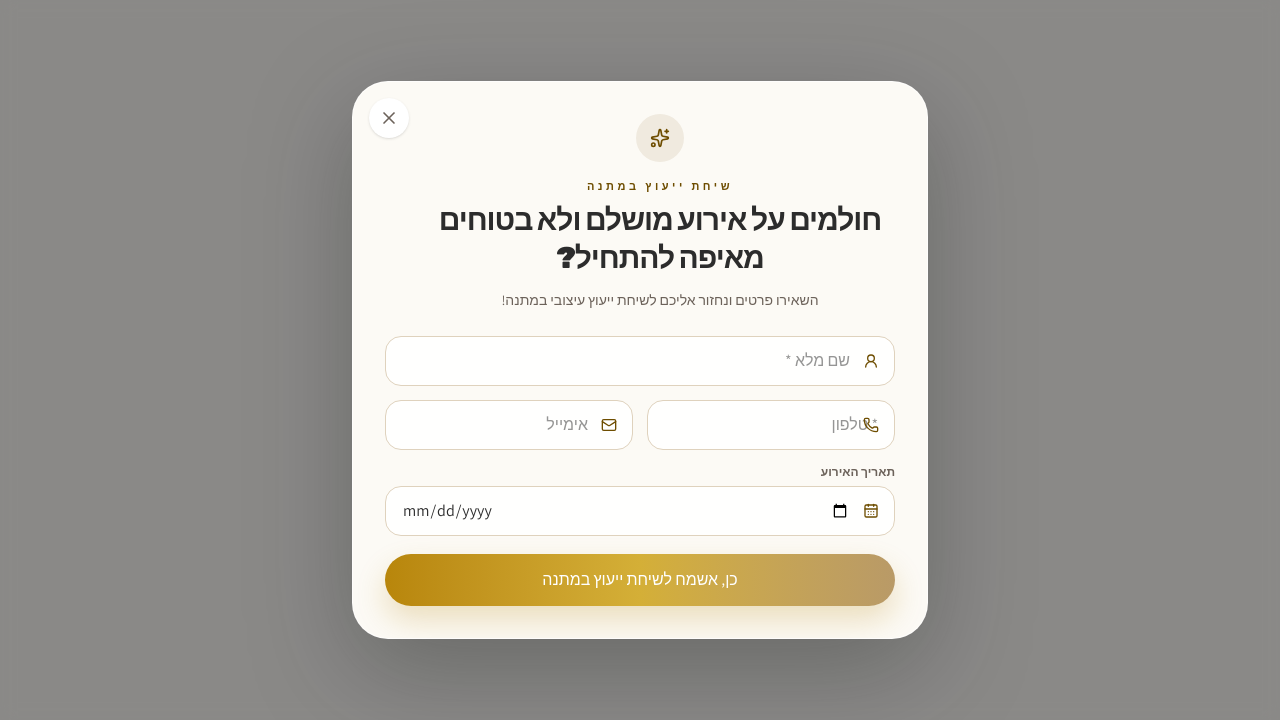
Test: LeadCaptureModal › validates full name/phone and clears the error when a field changes
Step 1. Submit the form "כן, אשמח לשיחת ייעוץ במתנה", box 385,336 -> 895,606
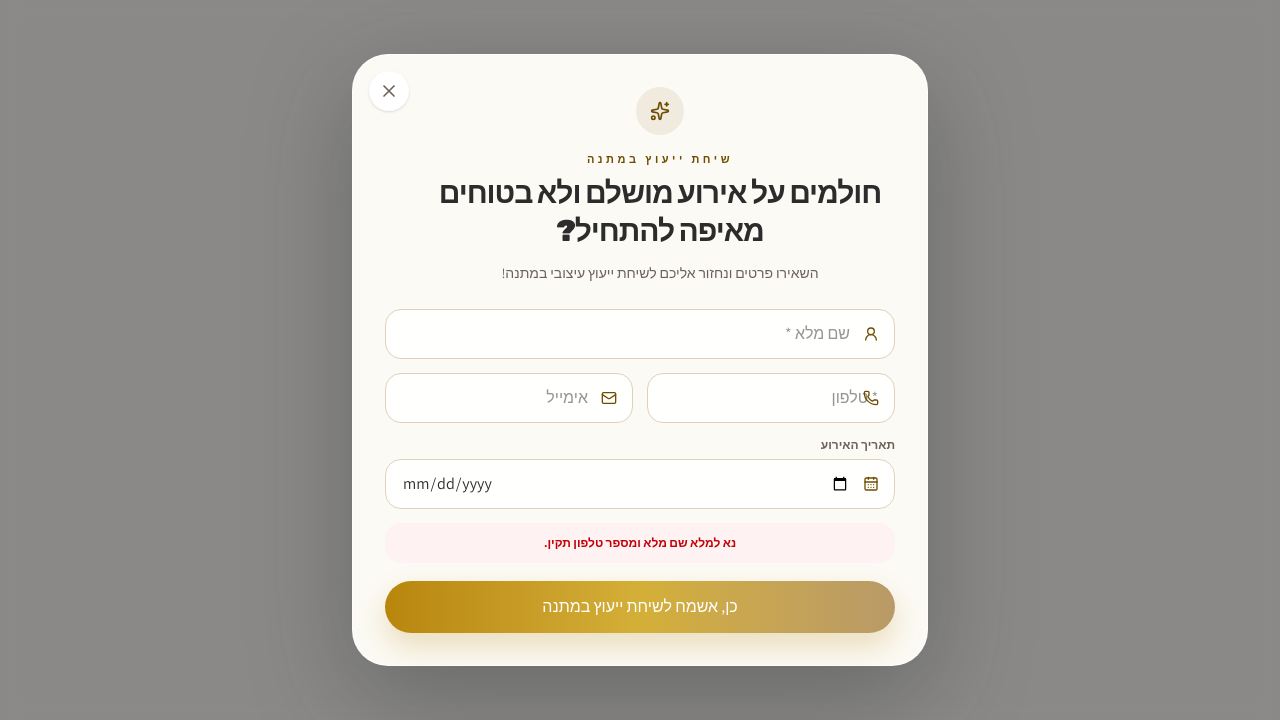
Expected: the message reads "נא למלא שם מלא ומספר טלפון תקין.", 544,535 -> 736,550
Step 2. Type "ניסן" into the field labelled "שם מלא" → (640, 334), box 385,309 -> 895,359
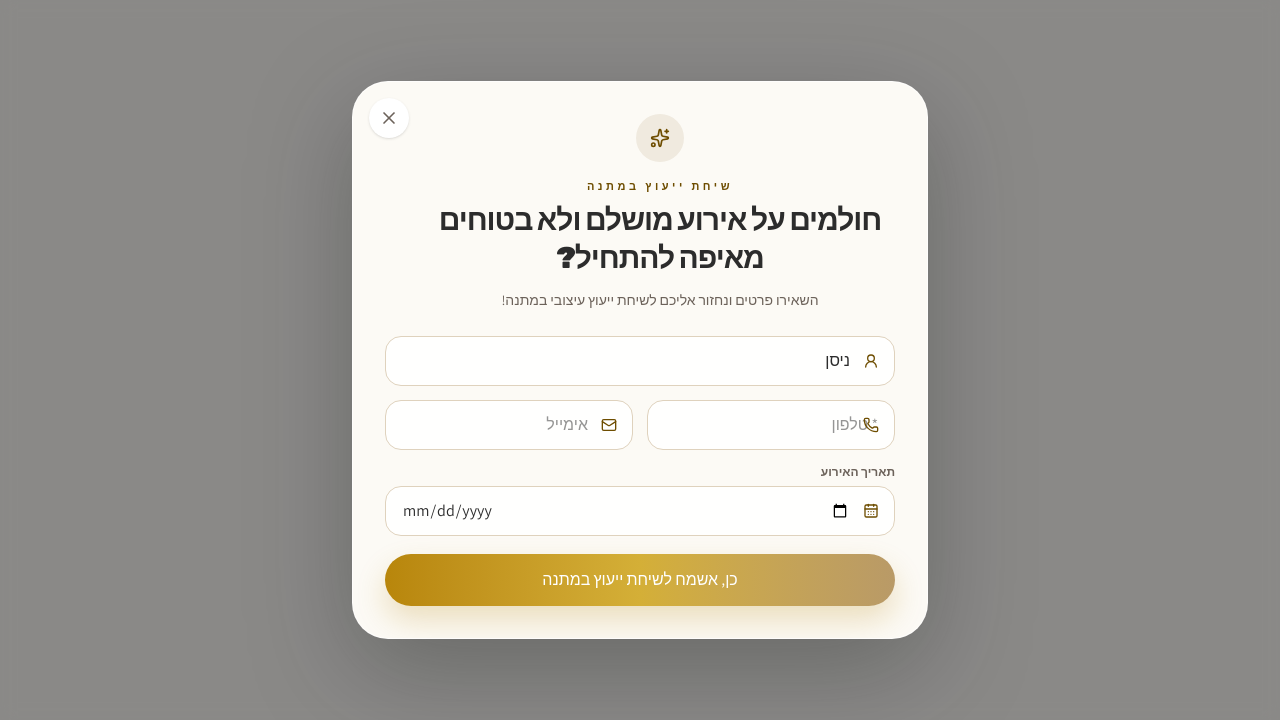
Expected: the message "נא למלא שם מלא ומספר טלפון תקין." is gone
Step 3. Type "123" into the field labelled "טלפון" → (771, 425), box 647,400 -> 895,450
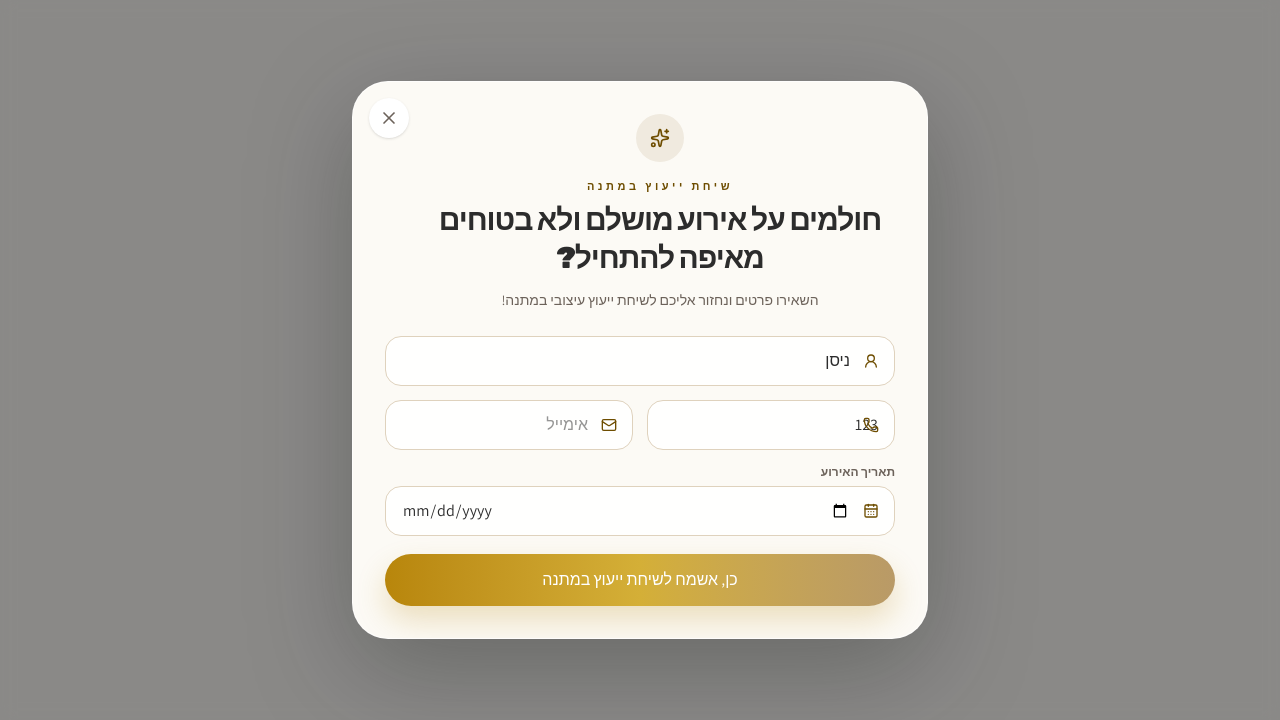
Step 4. Click the button "כן, אשמח לשיחת ייעוץ במתנה" → (640, 580), box 385,554 -> 895,606
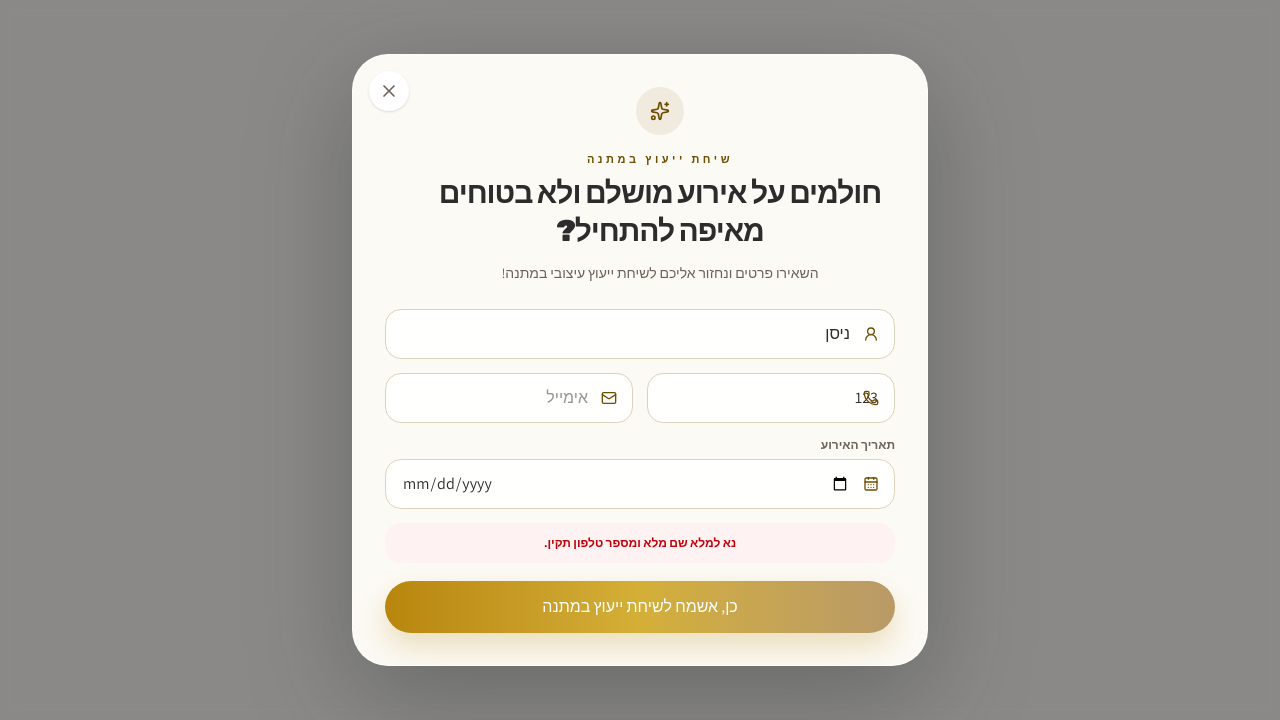
Expected: the message "נא למלא שם מלא ומספר טלפון תקין." is shown, 385,523 -> 895,563
